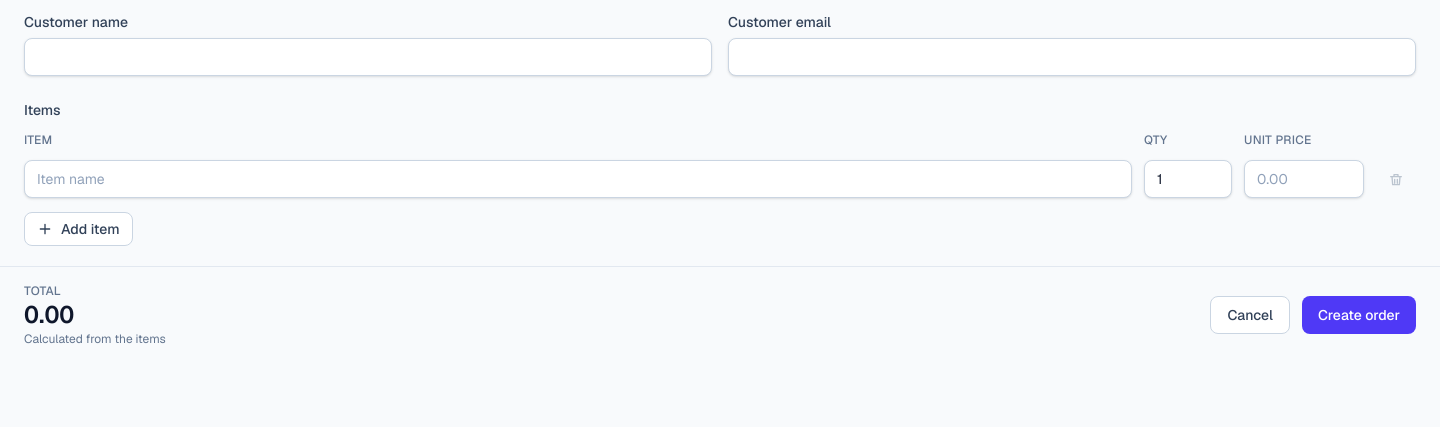
OrderForm › validates the email and an item price when each is left
Type "ann" into the field labelled "Customer email".
click(1072, 57); type("ann")  # box [728,38,1416,76]
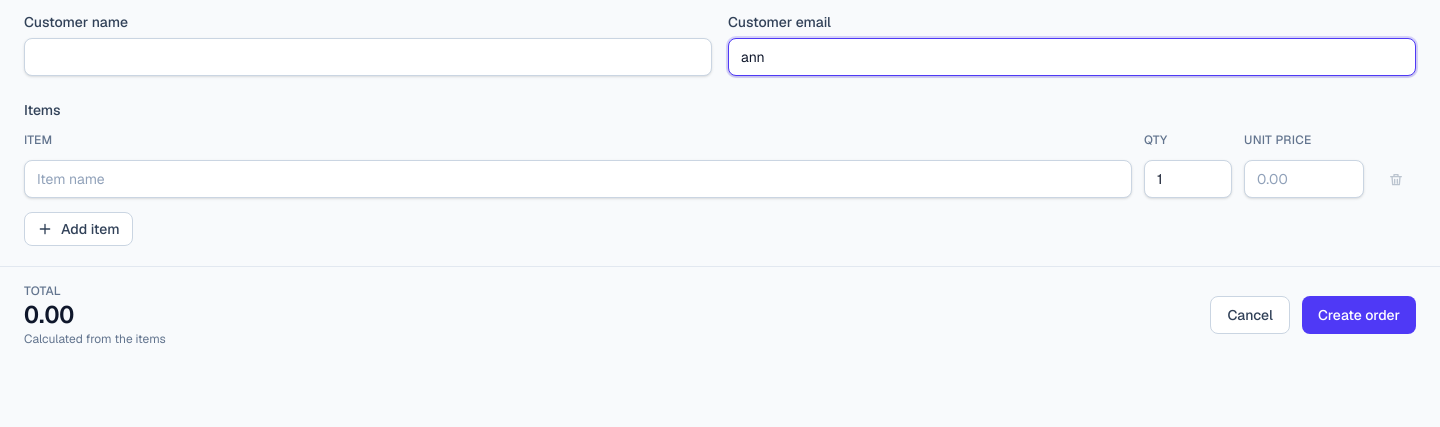
Press Tab
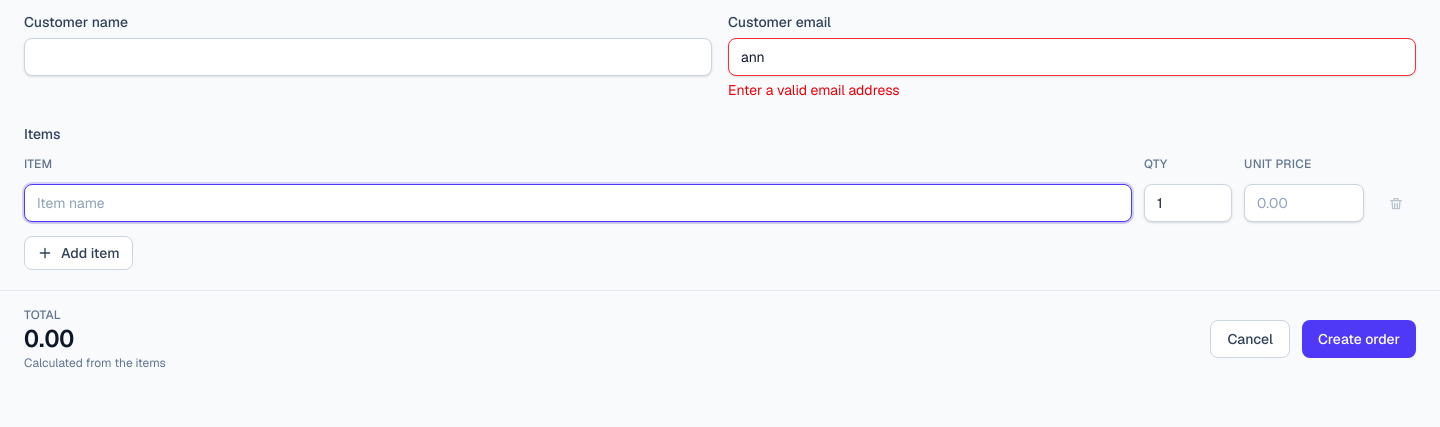
Expected: the text "Enter a valid email address" is shown, [728,81,900,99]
Click the field named "Item 1 unit price".
click(1304, 203)  # box [1244,184,1364,222]
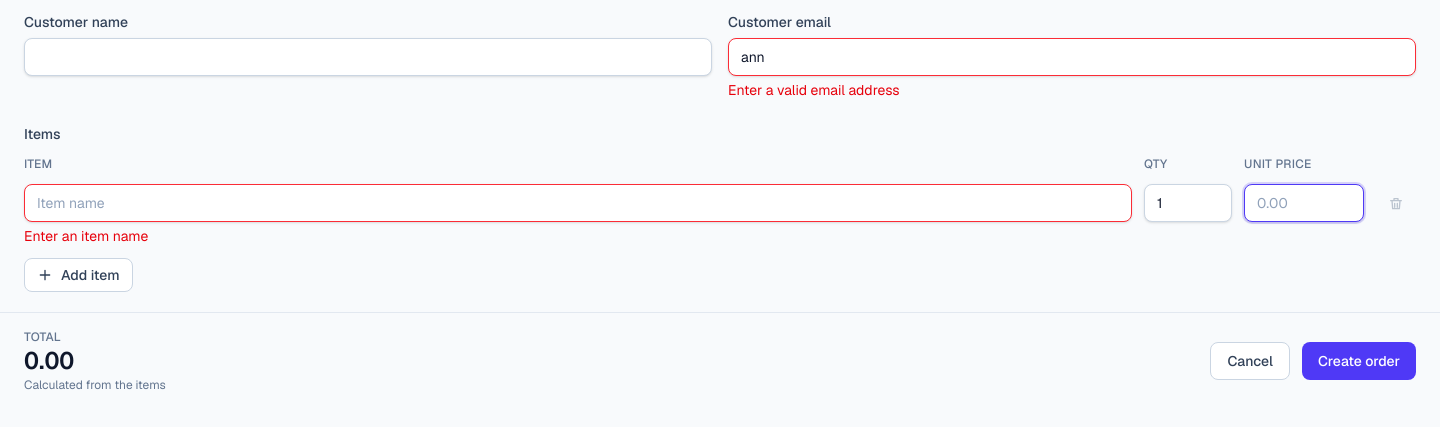
Press Tab
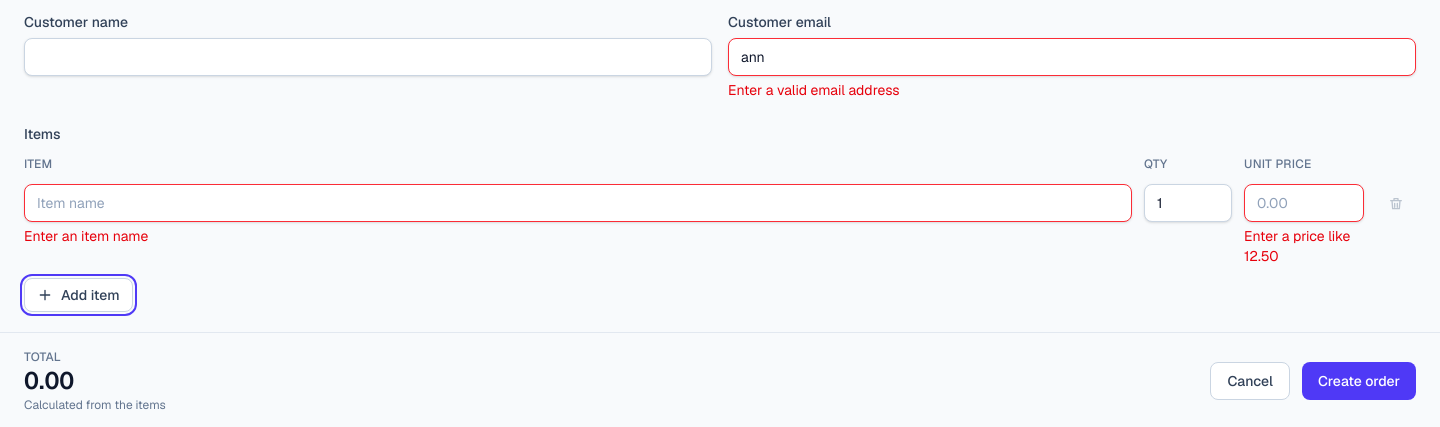
Expected: the text "Enter a price like 12.50" is shown, [1244,226,1364,266]
Type "12.50" into the field named "Item 1 unit price".
click(1304, 203); type("12.50")  # box [1244,184,1364,222]
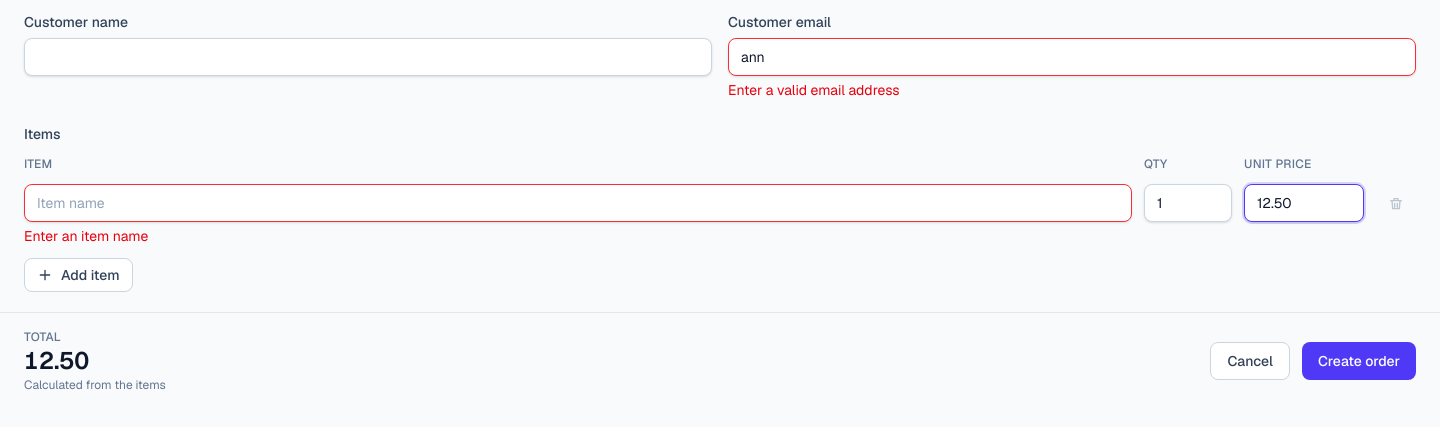
Expected: the text "Enter a price like 12.50" is gone
